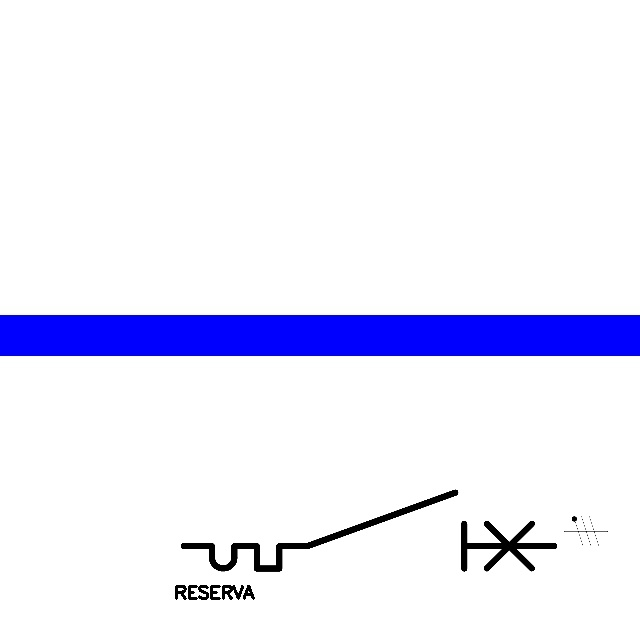interruptor_termomagnetico: (174, 483, 564, 578)
